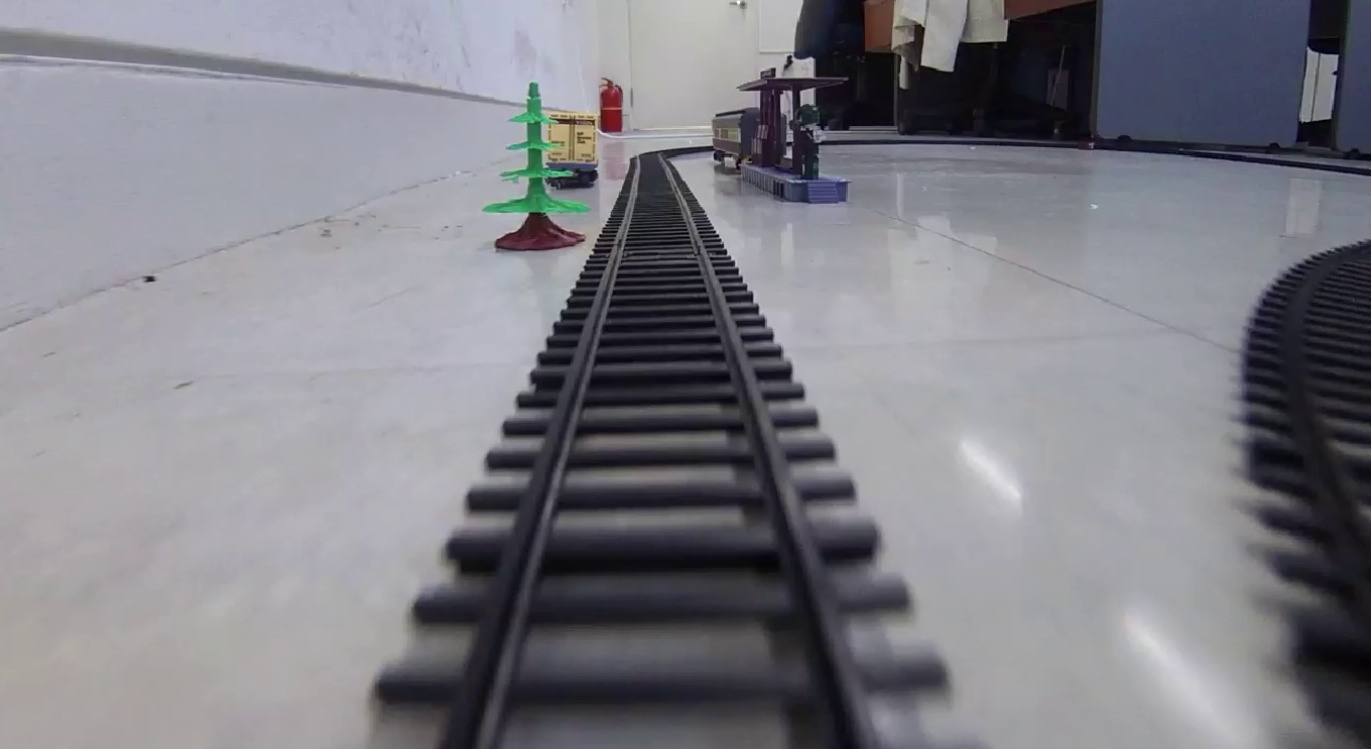tree: (482, 82, 587, 252)
